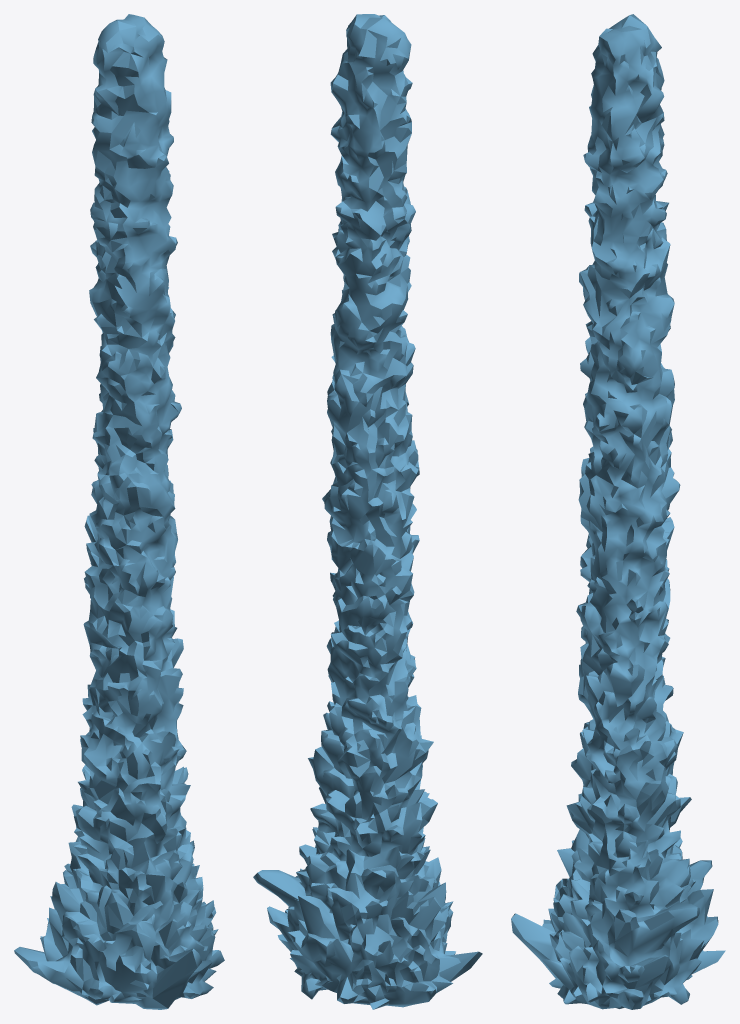
Rendered from hvs_crystal_large02.fbx.
3 views of the same model, side by side, from view 1: azimuth 30°, elevation 25°; view 2: azimuth 150°, elevation 25°; view 3: azimuth 270°, elevation 25° (orthographic).
Visible parts, largest first — view 1: hvs_crystal_large02_lod0; view 2: hvs_crystal_large02_lod0; view 3: hvs_crystal_large02_lod0.
Part boxes in pixels (box(x1,y1,x2,y2)): hvs_crystal_large02_lod0: box(14, 14, 224, 1009); hvs_crystal_large02_lod0: box(253, 14, 482, 1009); hvs_crystal_large02_lod0: box(511, 14, 725, 1009).
Size of the model in its own units: 13.57 by 67.03 by 13.34.
